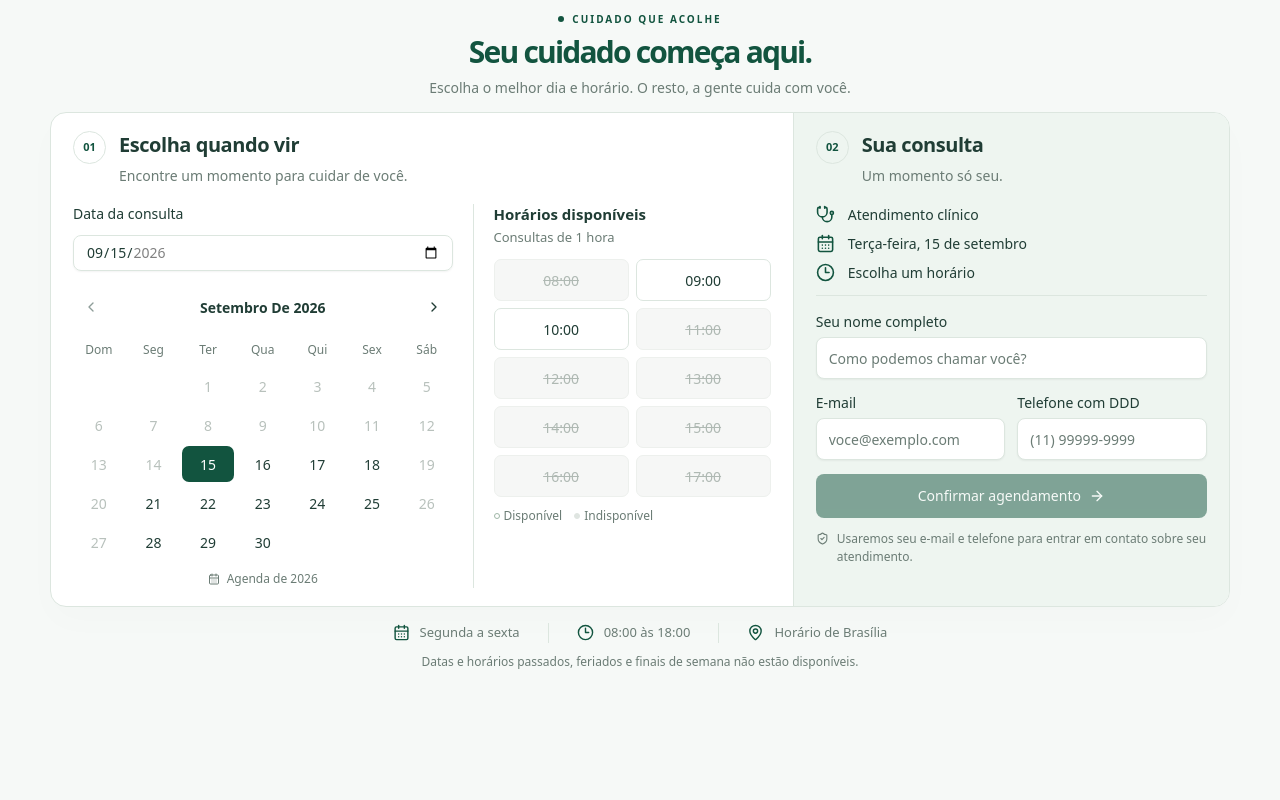
Test case: booking form › validates contacts on blur and clears errors after correcting the masked phone
In the field labelled "Telefone com DDD": (1112, 439) [1017,418,1207,460], type "00987654321"
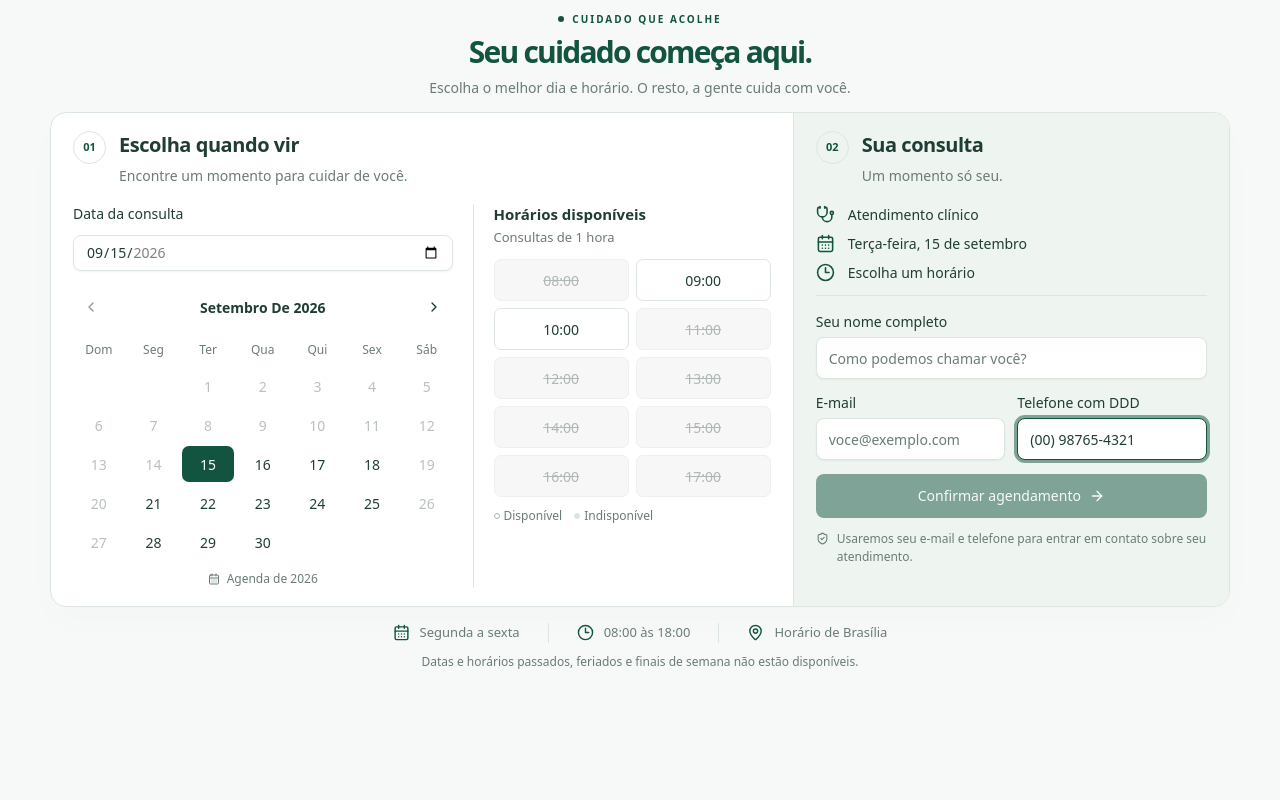
Press Tab
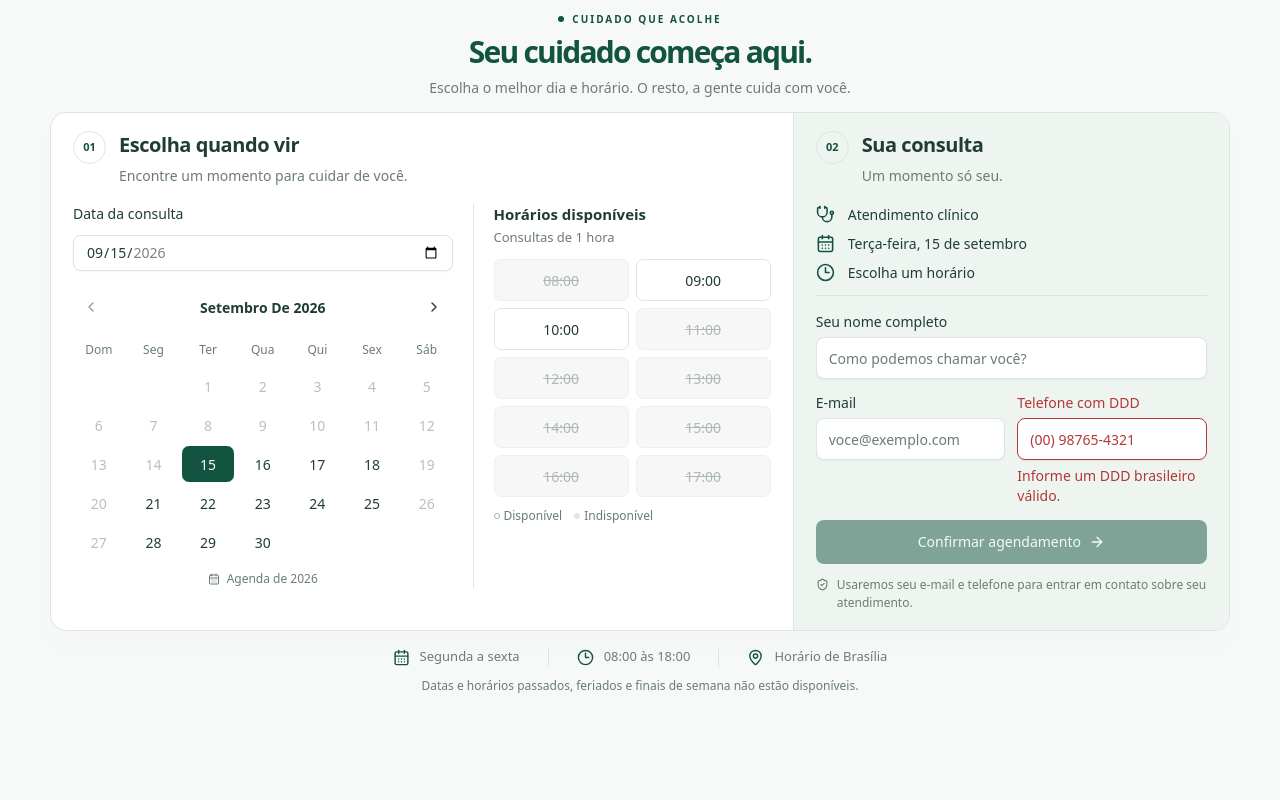
Now the text "Informe um DDD brasileiro válido." is shown, box [1017,466,1207,506]
Replace the text in the field labelled "Telefone com DDD" with "11987654321": (1112, 439) [1017,418,1207,460]
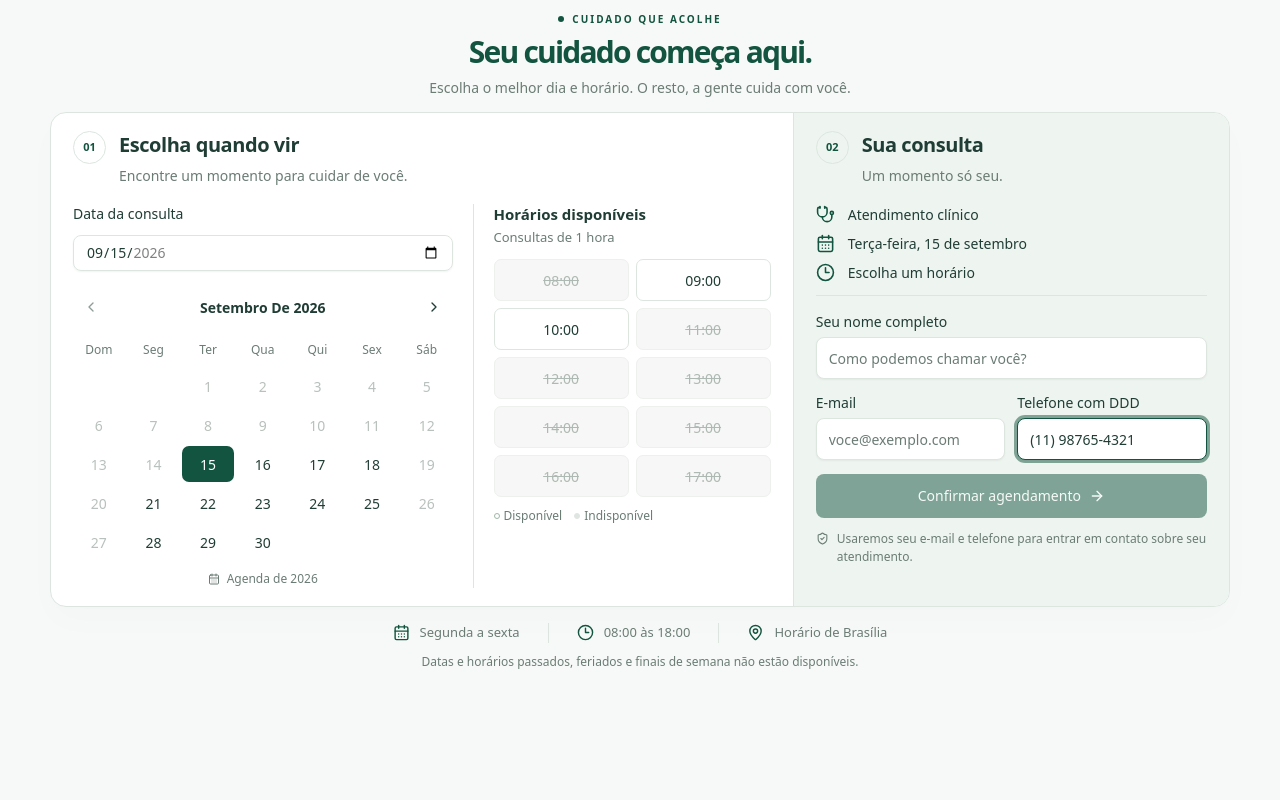
Expected: the text "Informe um DDD brasileiro válido." is not shown
Now the field labelled "Telefone com DDD" holds "(11) 98765-4321", box [1017,418,1207,460]
In the field labelled "E-mail": (910, 439) [816,418,1005,460], type "invalido"
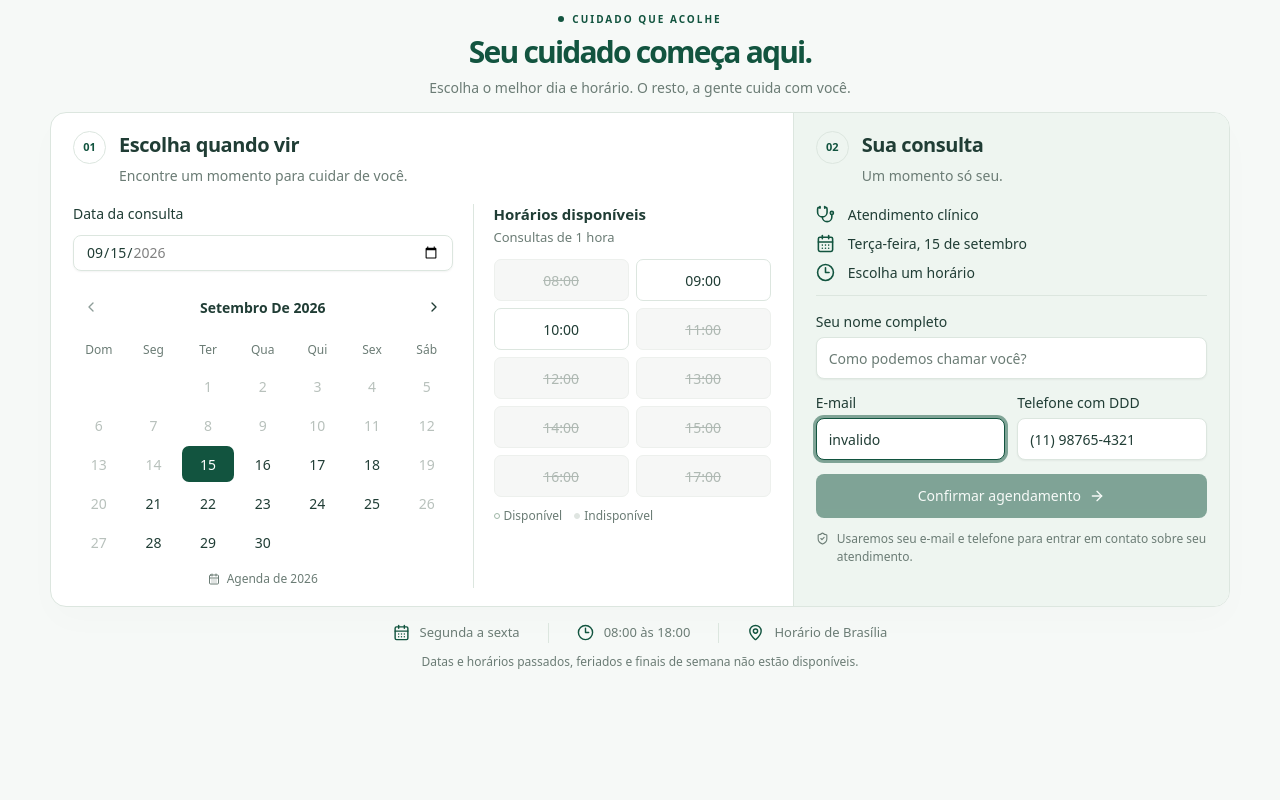
Press Tab
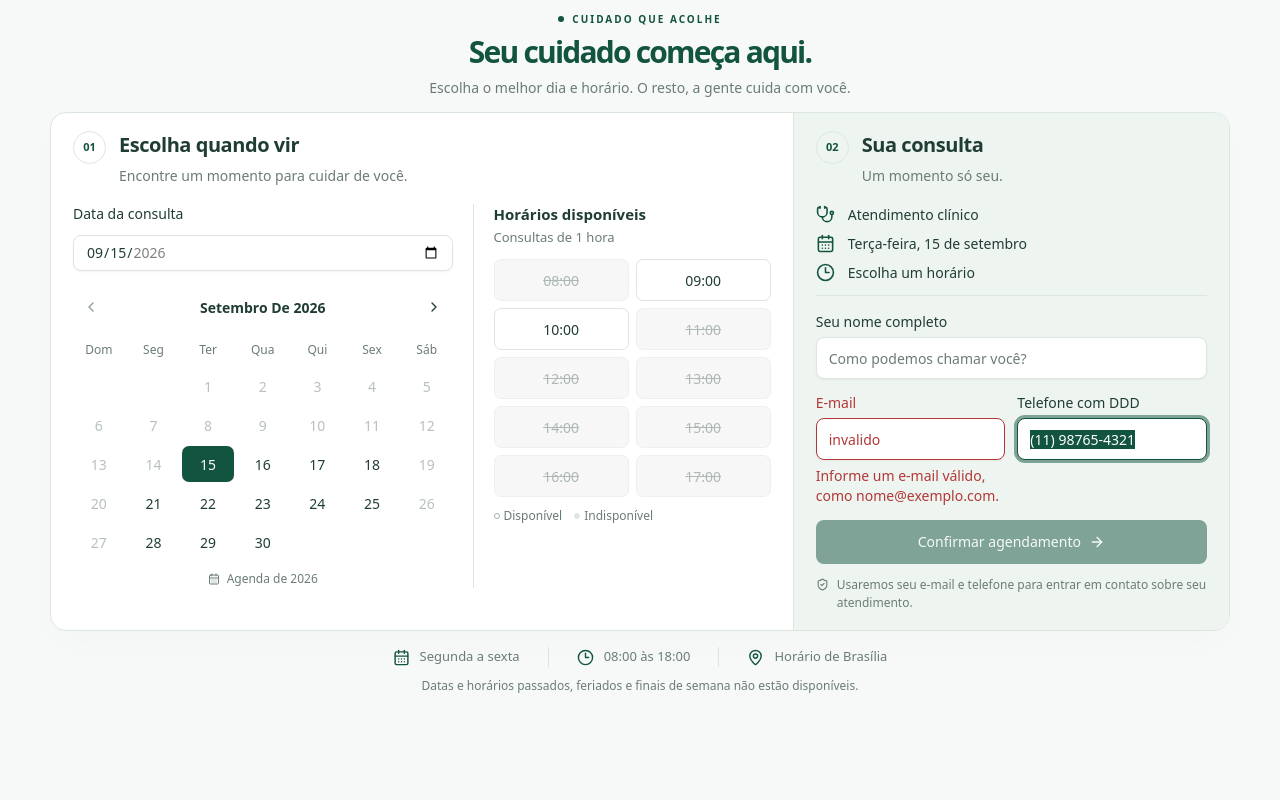
Now the text "Informe um e-mail válido, como nome@exemplo.com." is shown, box [816,466,1005,506]
